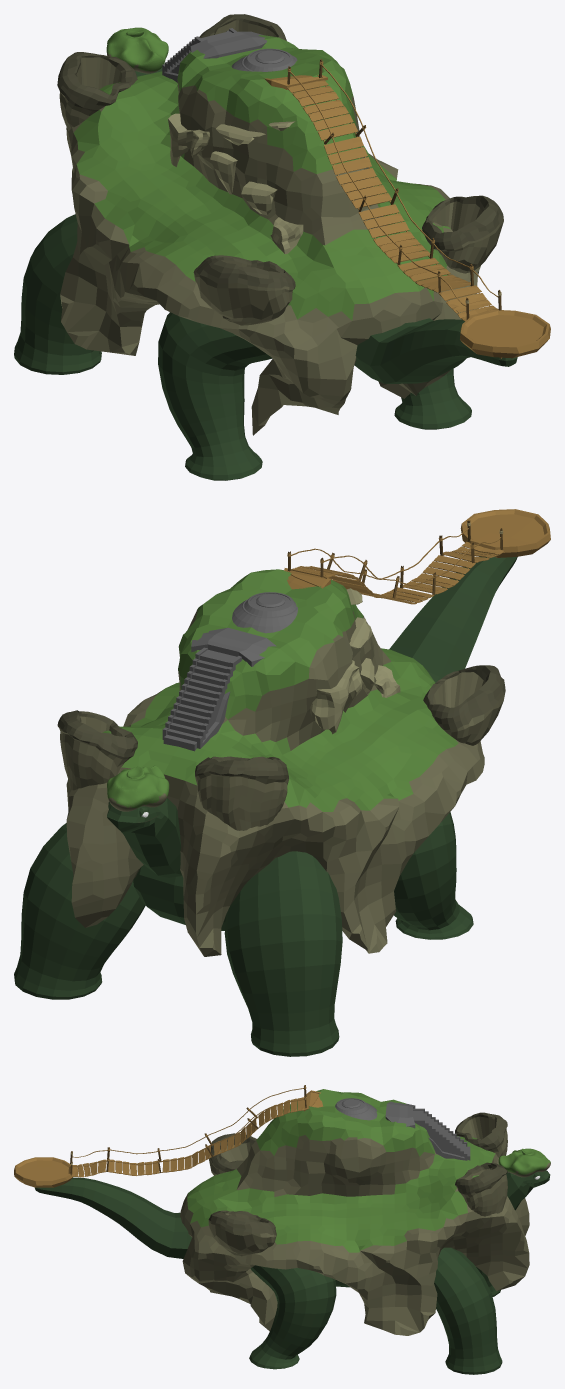
Rendered from ile-tortue.fbx.
3 renders of one model, top to bottom at view 1: azimuth 30°, elevation 25°; view 2: azimuth 150°, elevation 25°; view 3: azimuth 270°, elevation 25°, orthographic. The views are drawn at different scales.
Parts seen in each view (by area): view 1: carapace02.004, patteArriere.006, geyser.009, pont, patteAvant.006, queue.006, geyser.010, plateforme-bois.005, cheveux.005, escaliers.005, Cube.034, rock-jump-03 (+5 smaller); view 2: carapace02.004, patteAvant.006, geyser.010, queue.006, escaliers.005, patteArriere.006, geyser.009, pont, tete.007, plateforme-bois.005, cheveux.005, spawn.005 (+3 smaller); view 3: carapace02.004, patteAvant.006, patteArriere.006, queue.006, geyser.010, geyser.009, pont, escaliers.005, plateforme-bois.005, cheveux.005, tete.007, spawn.005 (+1 smaller).
Boxes of the visible parts, bbox=[...] form: carapace02.004: bbox=[60, 35, 480, 435]; patteArriere.006: bbox=[158, 312, 471, 480]; geyser.009: bbox=[193, 195, 503, 325]; pont: bbox=[264, 59, 470, 292]; patteAvant.006: bbox=[14, 214, 101, 374]; queue.006: bbox=[354, 318, 517, 383]; geyser.010: bbox=[57, 14, 286, 130]; plateforme-bois.005: bbox=[460, 310, 550, 358]; cheveux.005: bbox=[106, 27, 168, 73]; escaliers.005: bbox=[162, 28, 266, 82]; Cube.034: bbox=[437, 264, 498, 321]; rock-jump-03: bbox=[168, 113, 209, 166]; carapace02.004: bbox=[66, 569, 484, 956]; patteAvant.006: bbox=[14, 823, 342, 1056]; geyser.010: bbox=[57, 710, 288, 830]; queue.006: bbox=[389, 556, 517, 682]; escaliers.005: bbox=[162, 627, 276, 751]; patteArriere.006: bbox=[394, 812, 473, 939]; geyser.009: bbox=[423, 665, 505, 745]; pont: bbox=[284, 540, 475, 604]; tete.007: bbox=[107, 798, 182, 877]; plateforme-bois.005: bbox=[460, 509, 550, 557]; cheveux.005: bbox=[107, 765, 169, 811]; spawn.005: bbox=[232, 592, 297, 633]; carapace02.004: bbox=[180, 1089, 529, 1335]; patteAvant.006: bbox=[434, 1247, 502, 1374]; patteArriere.006: bbox=[249, 1265, 336, 1369]; queue.006: bbox=[35, 1177, 191, 1258]; geyser.010: bbox=[455, 1112, 507, 1216]; geyser.009: bbox=[208, 1133, 276, 1256]; pont: bbox=[108, 1085, 323, 1175]; escaliers.005: bbox=[385, 1101, 470, 1160]; plateforme-bois.005: bbox=[14, 1157, 72, 1187]; cheveux.005: bbox=[498, 1148, 550, 1177]; tete.007: bbox=[506, 1170, 550, 1210]; spawn.005: bbox=[335, 1098, 377, 1120].
Bounding box in the file's own units: 843 × 898 × 1840.
